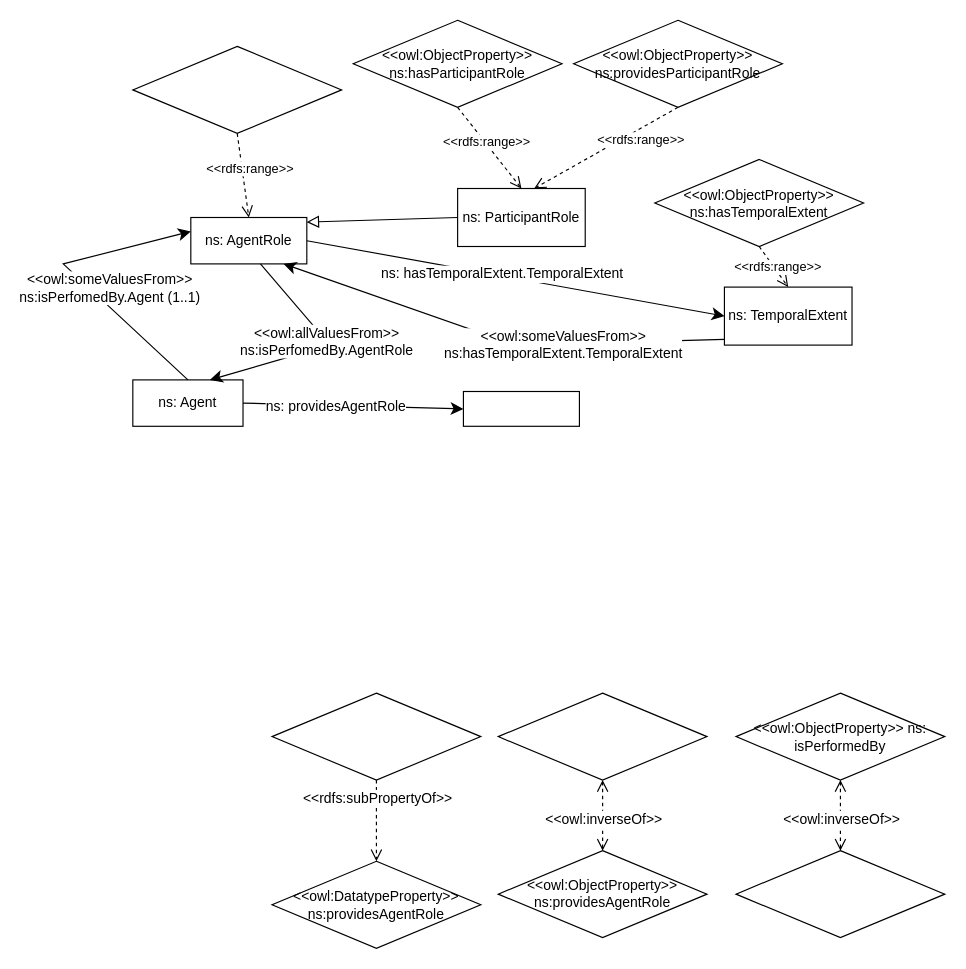
Image size: 966x969. Some labels were removed from this diagram. The centre of each missing label's shape, as x and y in pixels:
<<owl:DatatypeProperty>> ns:providesParticipantRole: the point at 376,736
<<owl:ObjectProperty>> ns:hasAgentRole: the point at 237,89
<<owl:ObjectProperty>> ns:isProvidedBy: the point at 602,736
<<owl:ObjectProperty>> ns:performsAgentRole: the point at 840,893
ns: Event: the point at 520,408
